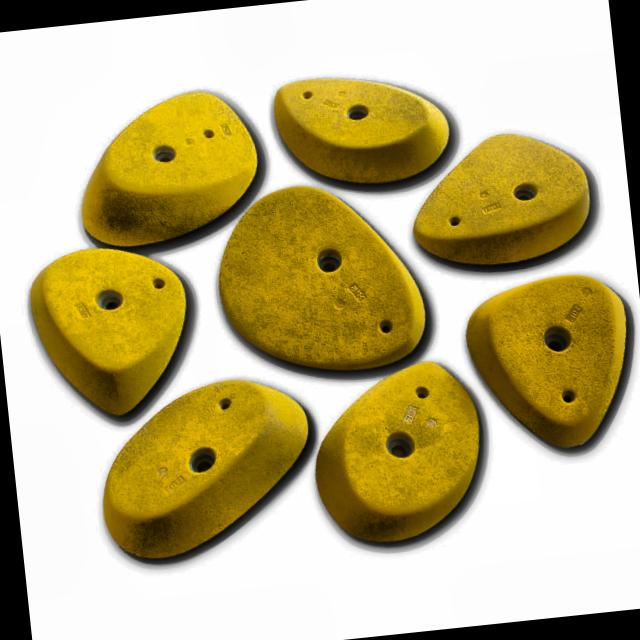Hold: (93, 374, 324, 566), (209, 178, 429, 376), (308, 357, 485, 555), (462, 268, 640, 460), (73, 80, 264, 250), (27, 237, 203, 419), (404, 125, 596, 275), (266, 62, 449, 196)
